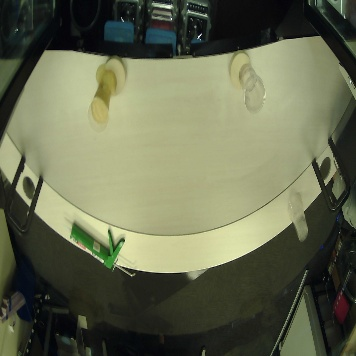empty_cup: (235, 61, 273, 116), (275, 188, 313, 243)
full_cup: (90, 70, 117, 133)
puck: (99, 56, 131, 96), (225, 50, 256, 85)
